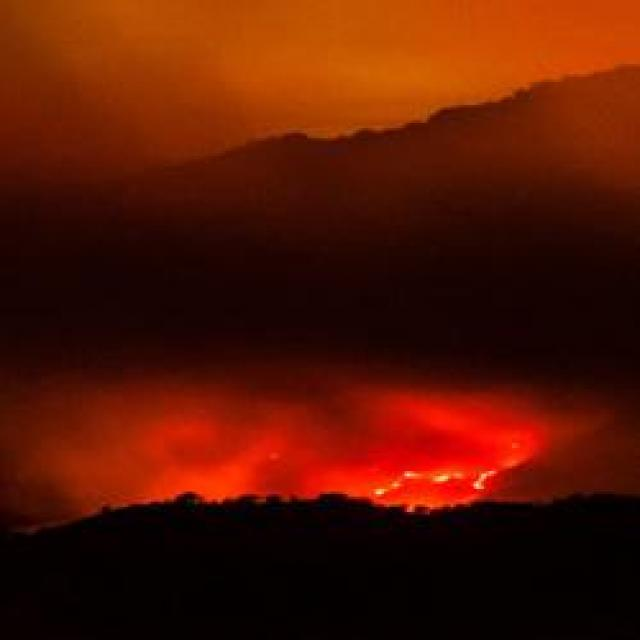fire: (55, 446, 514, 514)
